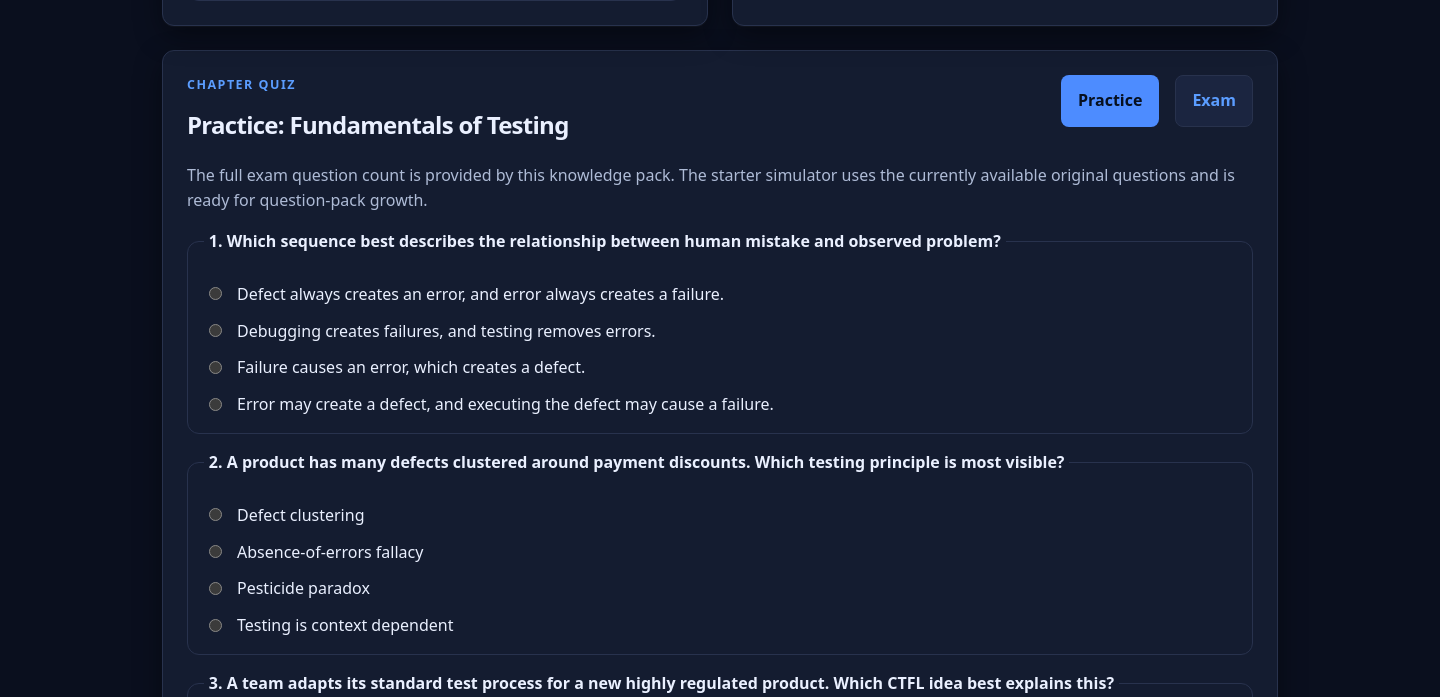
Test: App › quiz interaction › clears draft quiz answers when the learner confirms a mode change
This screenshot has width=1440, height=697.
(page scrolled)
Click the 1st radio button at (216, 294), box [209,287,222,300]
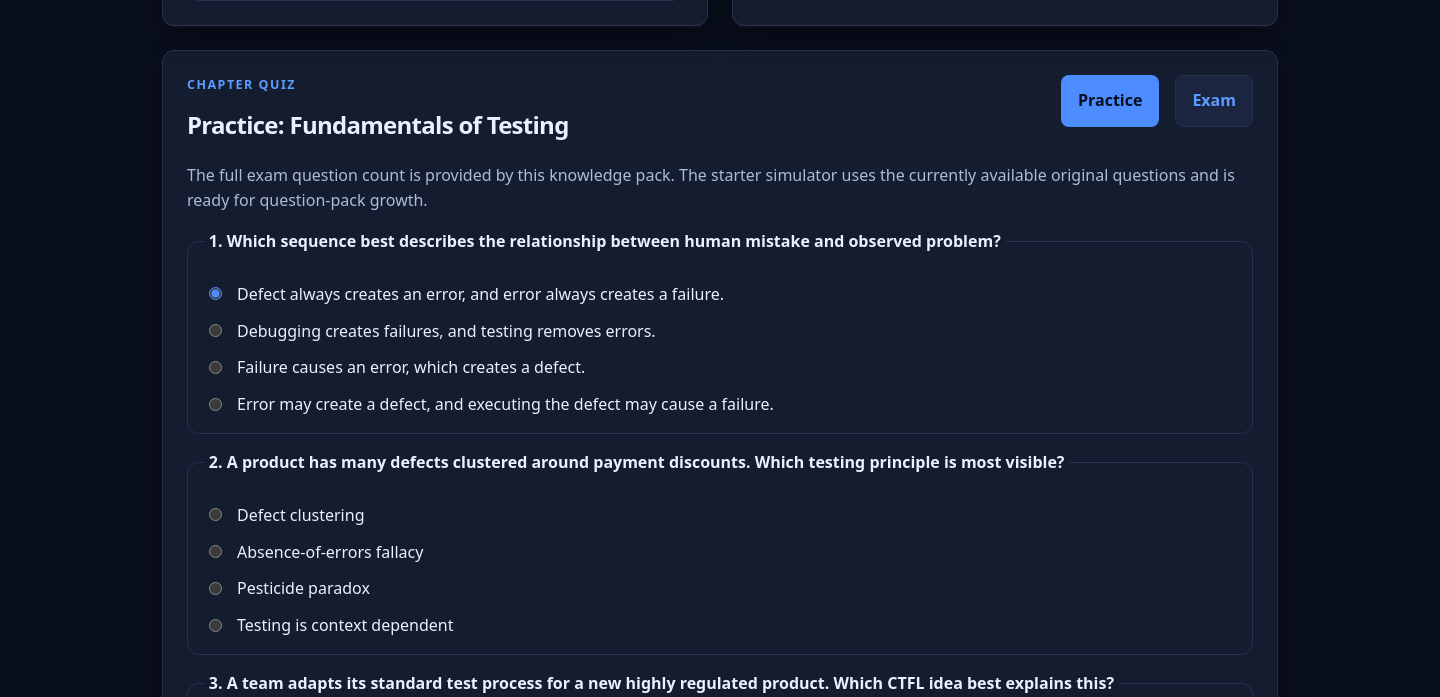
Click the button "Exam" at (1214, 101), box [1175,74,1253,127]
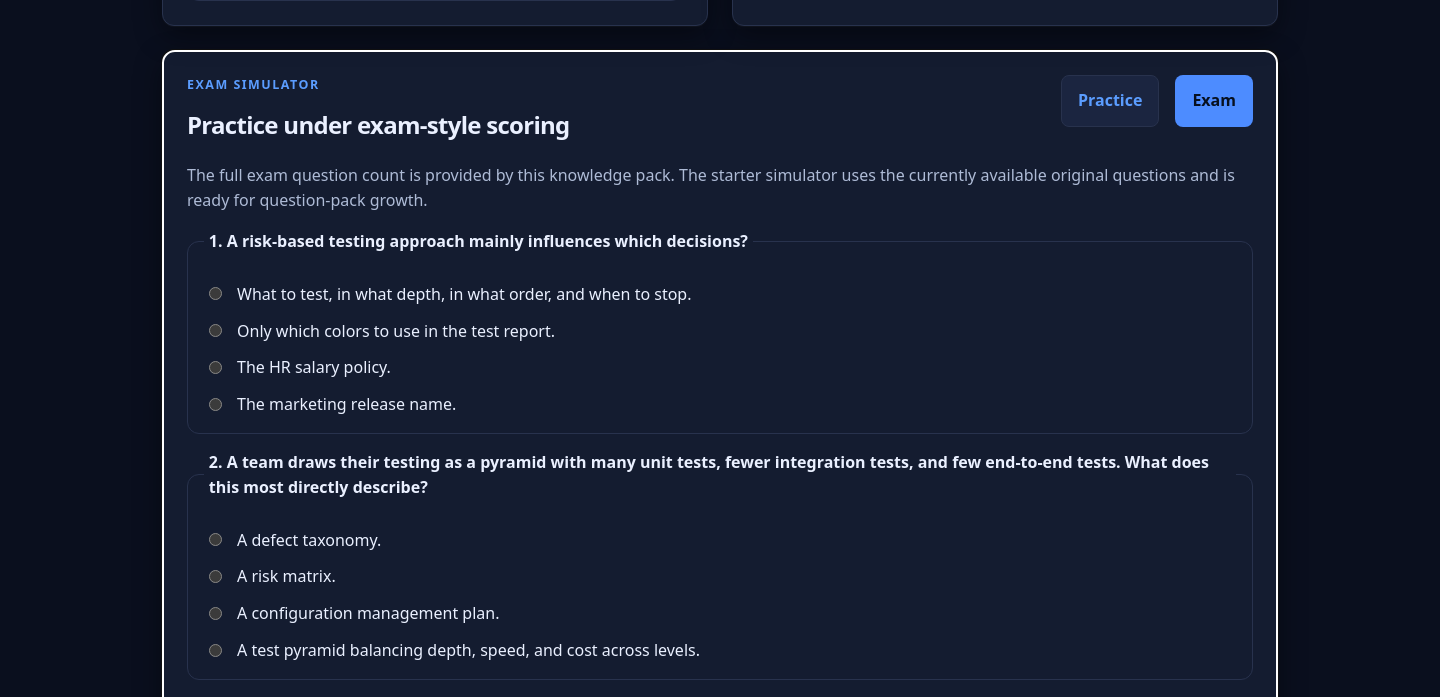
Now the heading "Practice under exam-style scoring" is shown, box [187,108,570,141]
